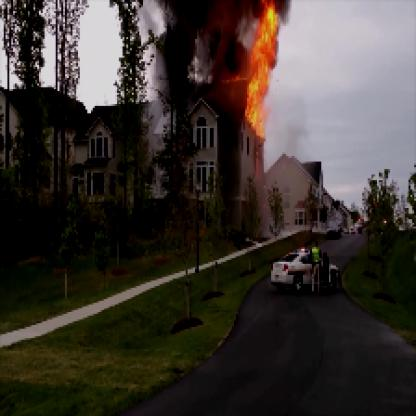Fire: (218, 2, 280, 132)
Smoke: (160, 2, 252, 106)
